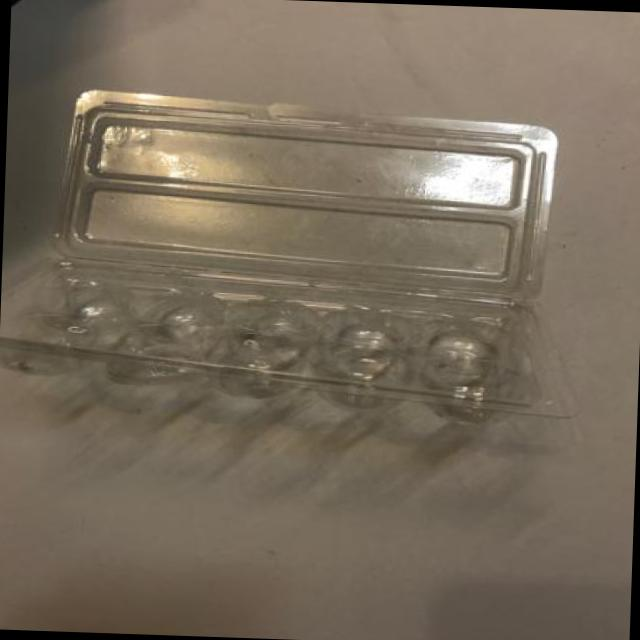Clamshell: (0, 77, 603, 436)
